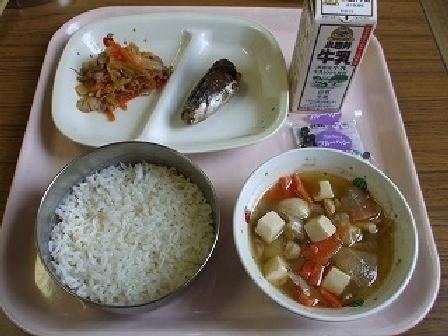Fish: (179, 52, 253, 129)
Milk: (285, 0, 385, 116)
Rice: (43, 148, 219, 302)
vegetable based cooked food: (78, 35, 165, 115)
vegetable soup: (249, 157, 410, 308)
